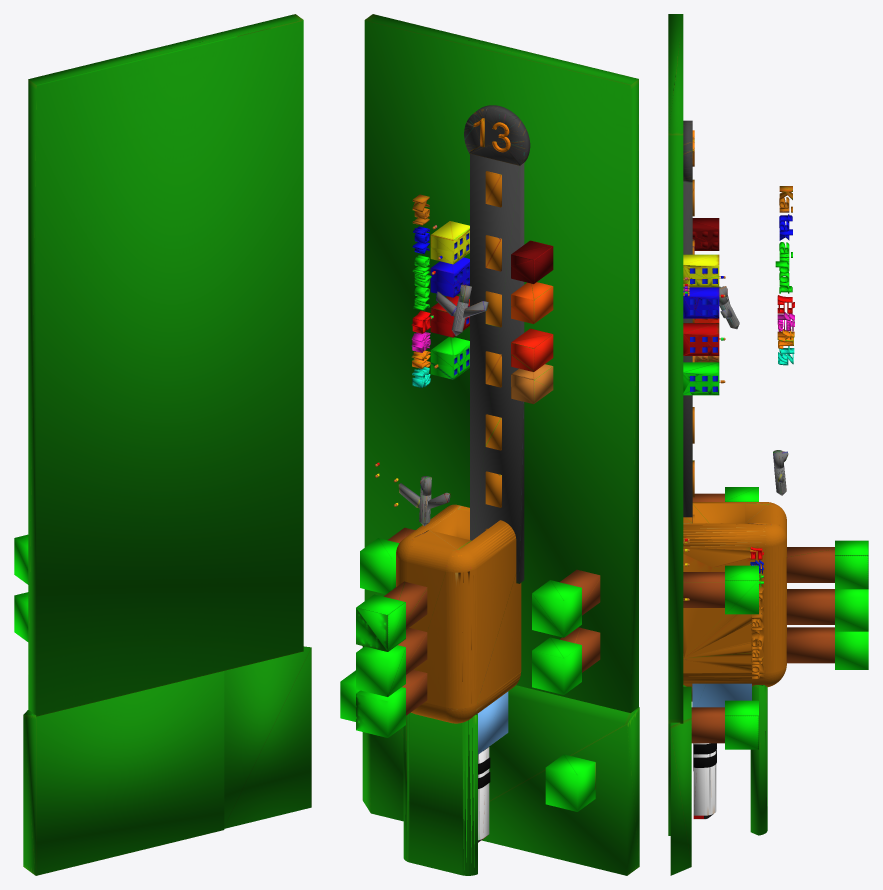
File: asset8.glb
3 renders of one model, left to right at view 1: azimuth 30°, elevation 25°; view 2: azimuth 150°, elevation 25°; view 3: azimuth 270°, elevation 25°, orthographic. The views are drawn at different scales.
Parts seen in each view (by area): view 1: Gladden; view 2: Gladden; view 3: Gladden.
Part boxes in pixels (<box>): Gladden: <box>14,14,311,875</box>; Gladden: <box>340,14,639,875</box>; Gladden: <box>668,14,868,875</box>.
Size of the model in its own units: 52.81 by 144 by 35.56.
1 material, 1 textured.
